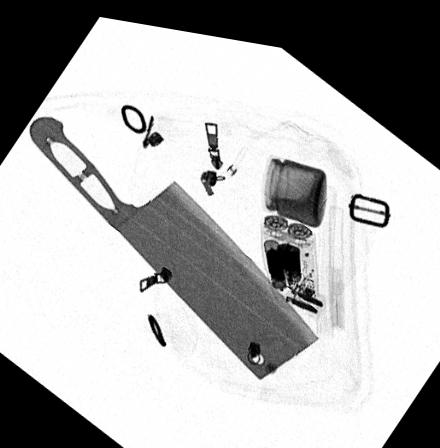Knife: (27, 114, 319, 370)
